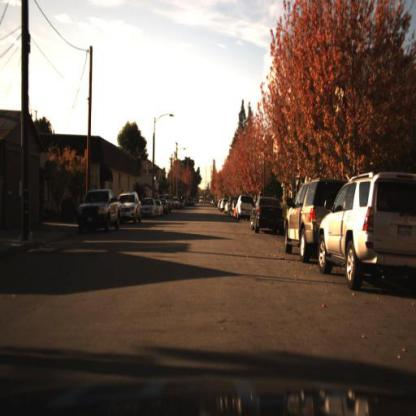car: (316, 169, 416, 298), (284, 178, 347, 265), (77, 189, 122, 238), (248, 196, 287, 236), (250, 196, 286, 234), (119, 189, 144, 227), (236, 193, 254, 222), (141, 197, 157, 223)
